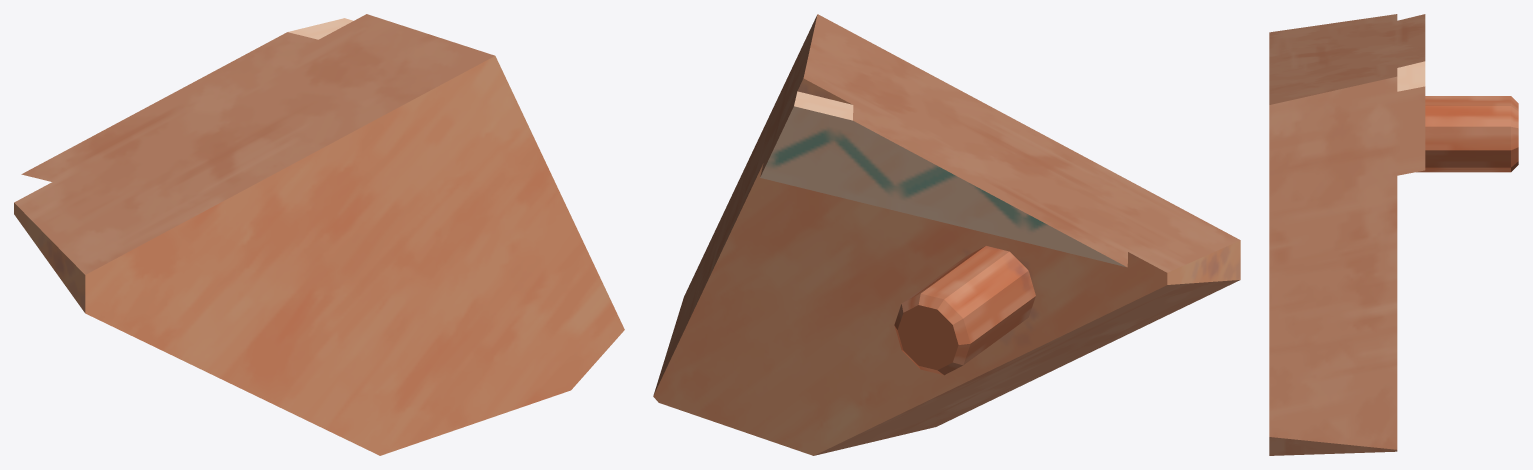
Rendered from wall2_shutter_s06.fbx.
3 views of the same model, side by side, from view 1: azimuth 30°, elevation 25°; view 2: azimuth 150°, elevation 25°; view 3: azimuth 270°, elevation 25° (orthographic). The views are drawn at different scales.
Visible parts, largest first — view 1: wall2_shutter_s06; view 2: wall2_shutter_s06; view 3: wall2_shutter_s06.
Boxes of the visible parts, x1=… form: wall2_shutter_s06: x1=14, y1=14, x2=624, y2=455; wall2_shutter_s06: x1=653, y1=14, x2=1240, y2=455; wall2_shutter_s06: x1=1269, y1=14, x2=1518, y2=455.
Size of the model in its own units: 4.38 by 2.91 by 1.95.
